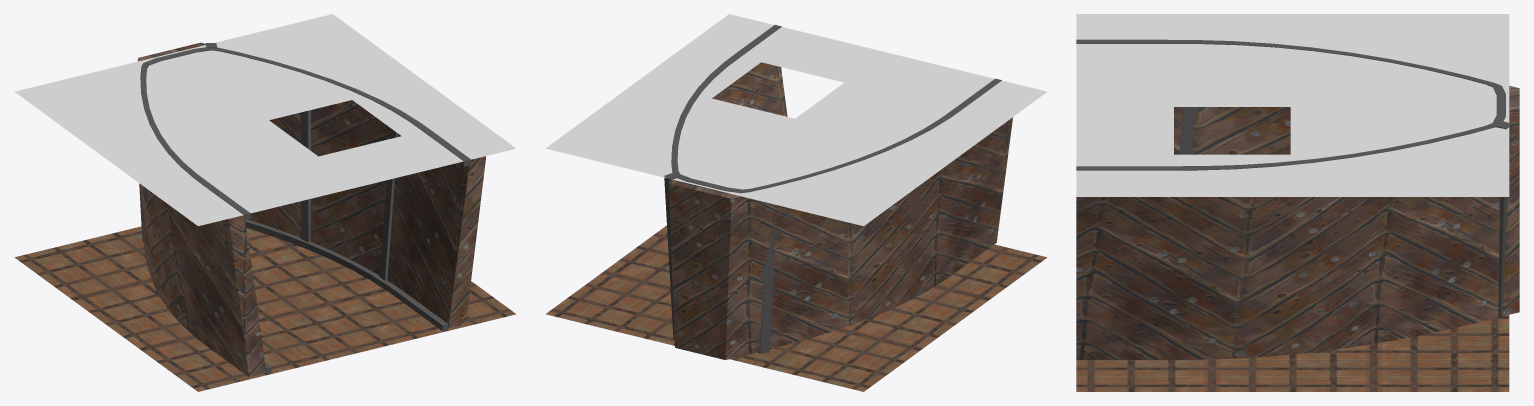
File: SallePirate.fbx
The picture shows the model from 3 angles, left to right: view 1: azimuth 30°, elevation 25°; view 2: azimuth 150°, elevation 25°; view 3: azimuth 270°, elevation 25°; orthographic projection. The views are drawn at different scales.
Visible parts, largest first — view 1: Plafond, Coque, Sol\; view 2: Plafond, Coque, Sol\; view 3: Coque, Plafond, Sol\.
Boxes of the visible parts, x1,y1,x2,y2 form: Plafond: (14,14,516,226); Coque: (137,42,485,377); Sol\: (14,226,516,391); Plafond: (545,14,1047,226); Coque: (664,25,1012,359); Sol\: (545,225,1047,391); Coque: (1076,39,1519,359); Plafond: (1076,14,1509,196); Sol\: (1076,315,1509,391).
Size of the model in its own units: 8 by 4.01 by 8.19.
4 materials, 2 textured.
